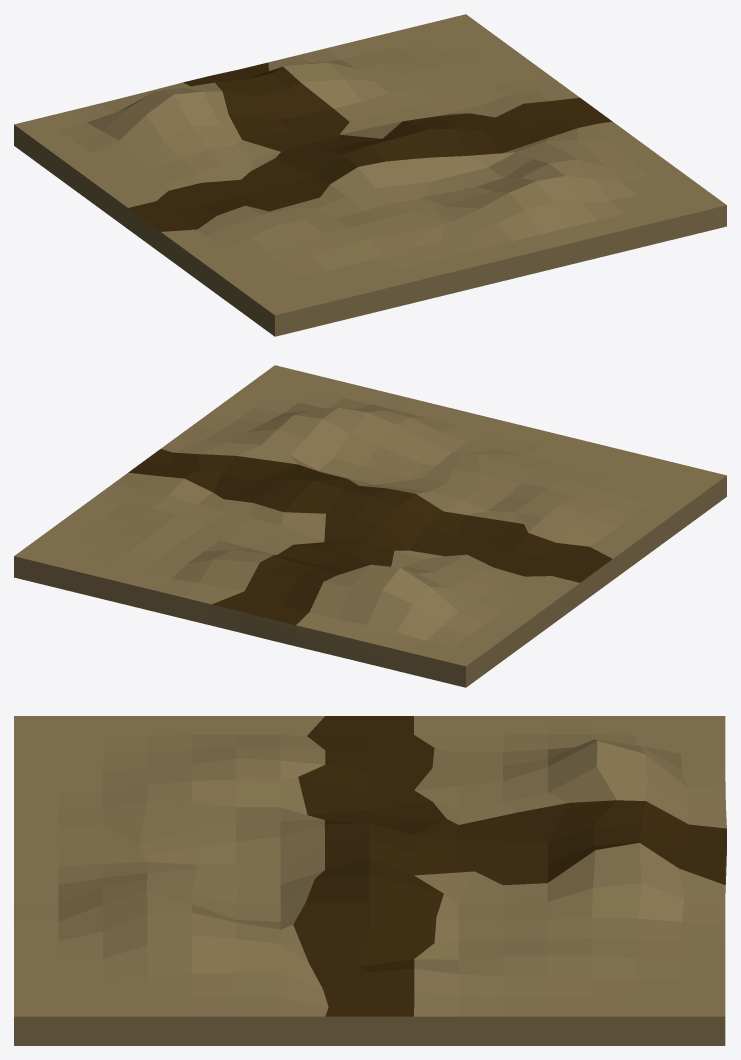
Rendered from Path10.fbx.
3 views of the same model, one above another, from view 1: azimuth 30°, elevation 25°; view 2: azimuth 150°, elevation 25°; view 3: azimuth 270°, elevation 25° (orthographic). The views are drawn at different scales.
Visible parts, largest first — view 1: Cube.008; view 2: Cube.008; view 3: Cube.008.
Part boxes in pixels (box(x1,y1,x2,y2)): Cube.008: box(14, 14, 726, 336); Cube.008: box(14, 365, 726, 687); Cube.008: box(14, 716, 726, 1045).
Bounding box in the file's own units: 2057 × 253 × 2062.
